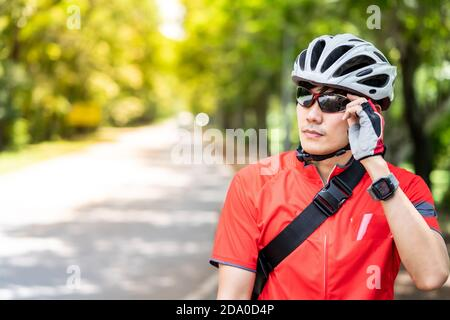helmet: (291, 33, 398, 155)
